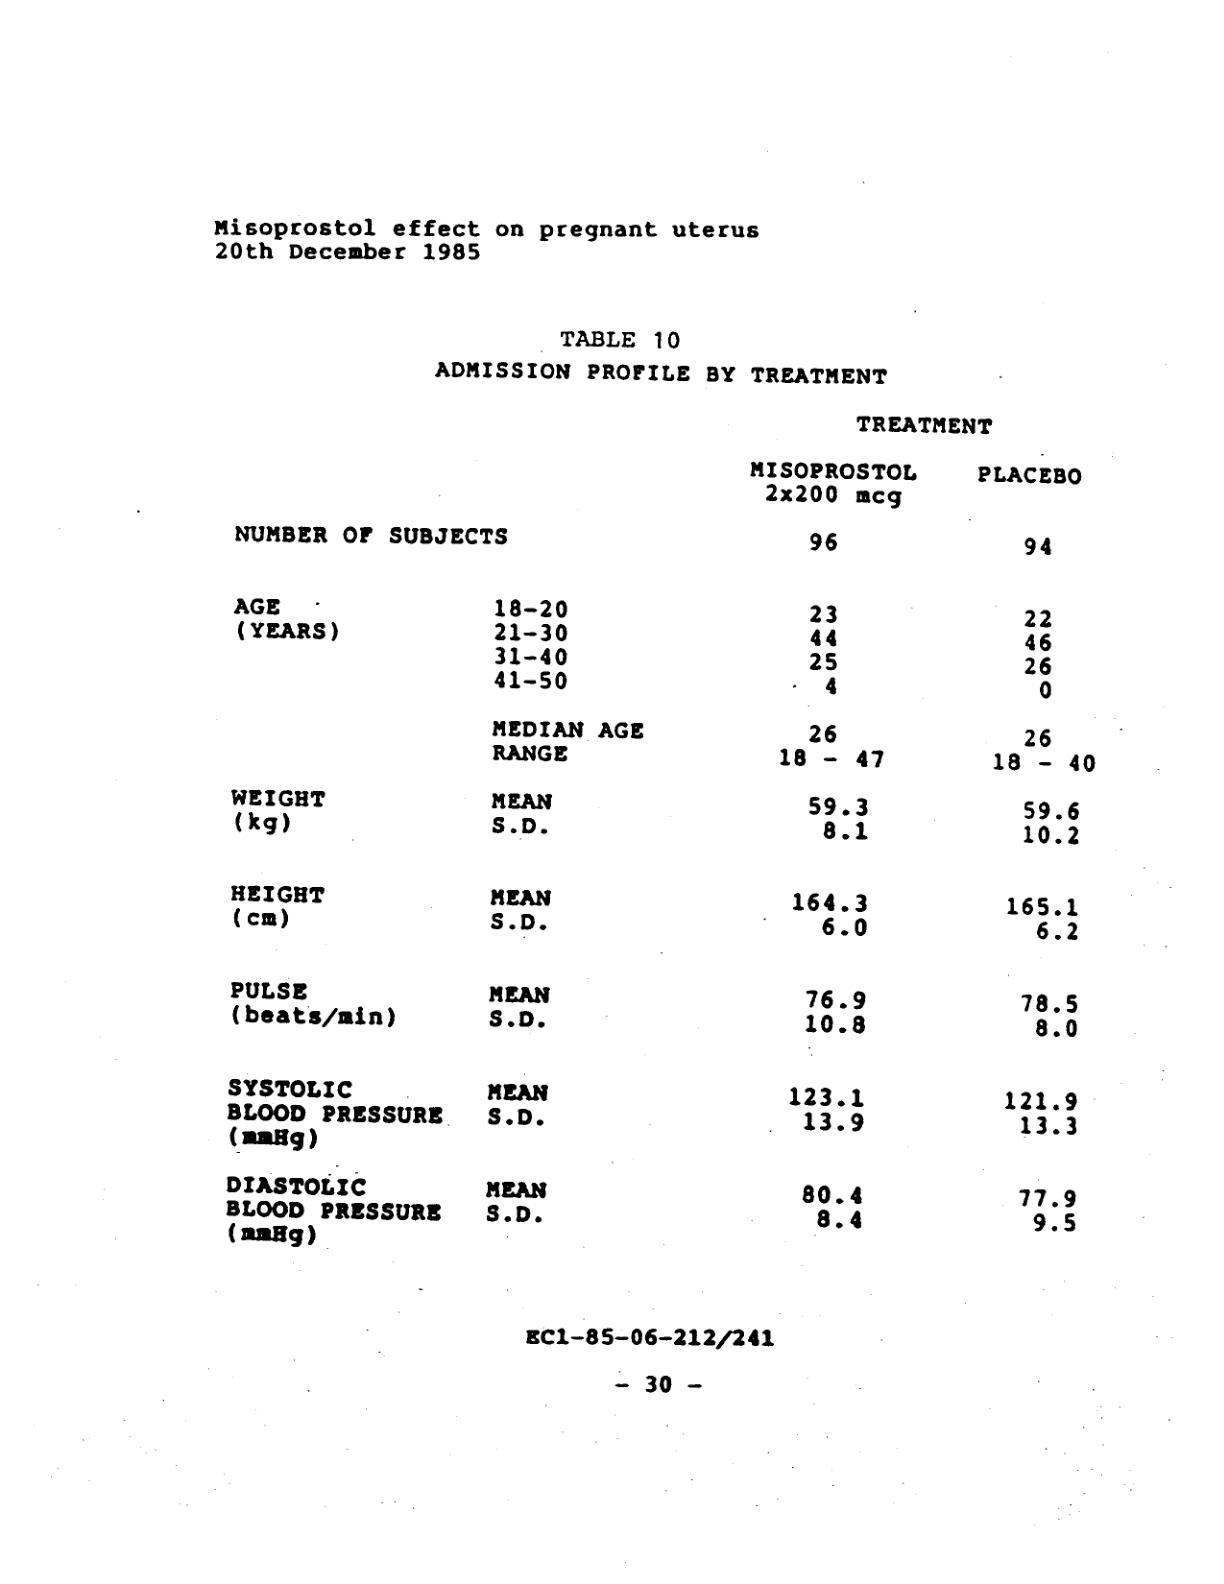nolines: (228, 460, 1098, 1245)
